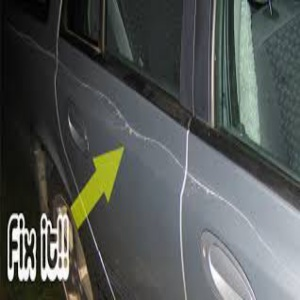door_scratch: (28, 69, 155, 146)
